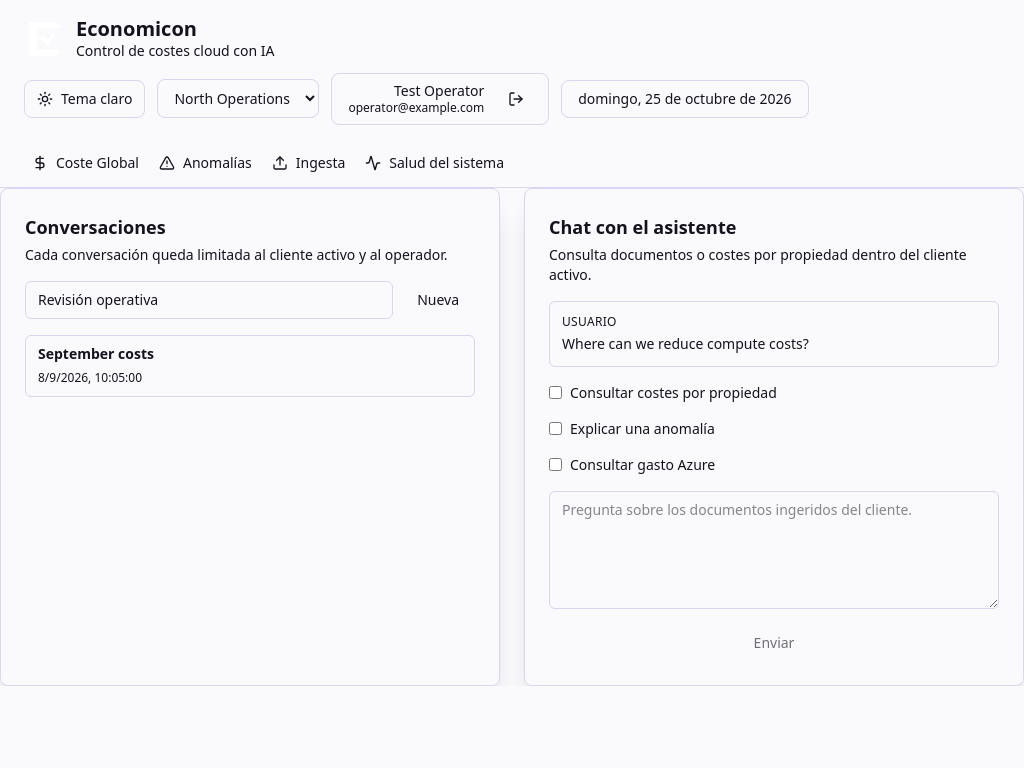
Test: tenant changes isolate page state › keeps new-tenant conversation drafts independent of late mutation success
Expected: the text "Where can we reduce compute costs?" is shown, x1=562 y1=334 x2=809 y2=352
Replace the text in the field with placeholder "Título de la nueva conversación" with "North only" at (209, 300), box x1=25 y1=280 x2=393 y2=318
Click the button "Nueva".
click(438, 300)  # box x1=401 y1=280 x2=475 y2=318
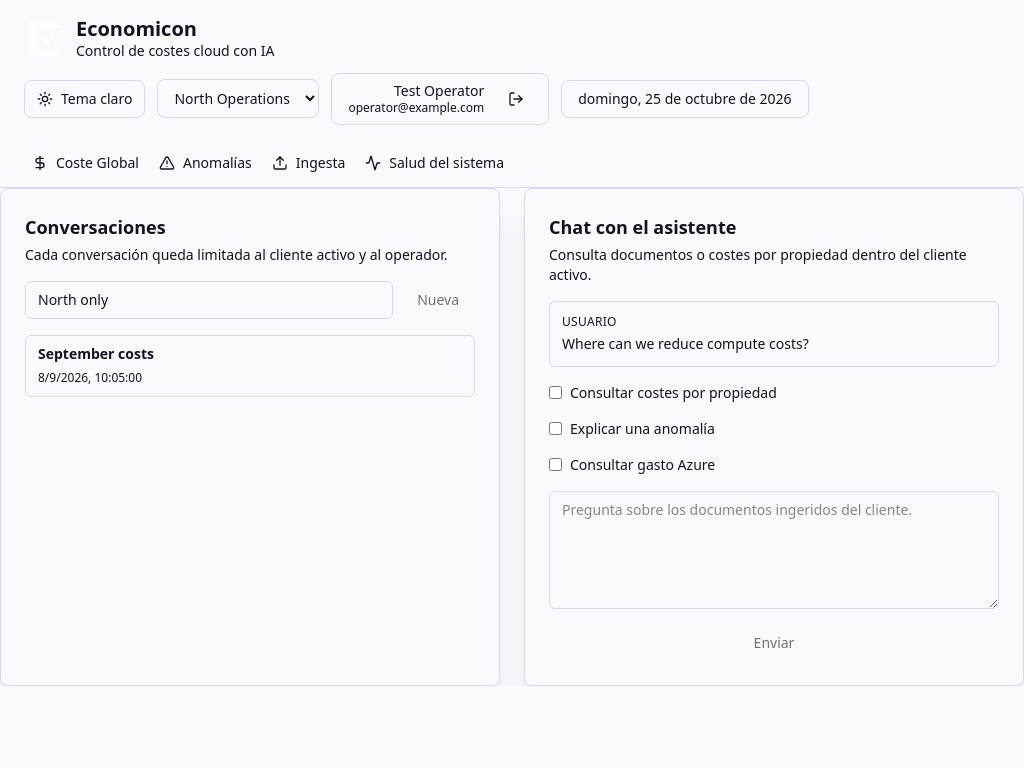
Type "North pending message" into the text box with placeholder "Pregunta sobre los documentos ingeridos del cliente.".
click(774, 550); type("North pending message")  # box x1=549 y1=490 x2=999 y2=608
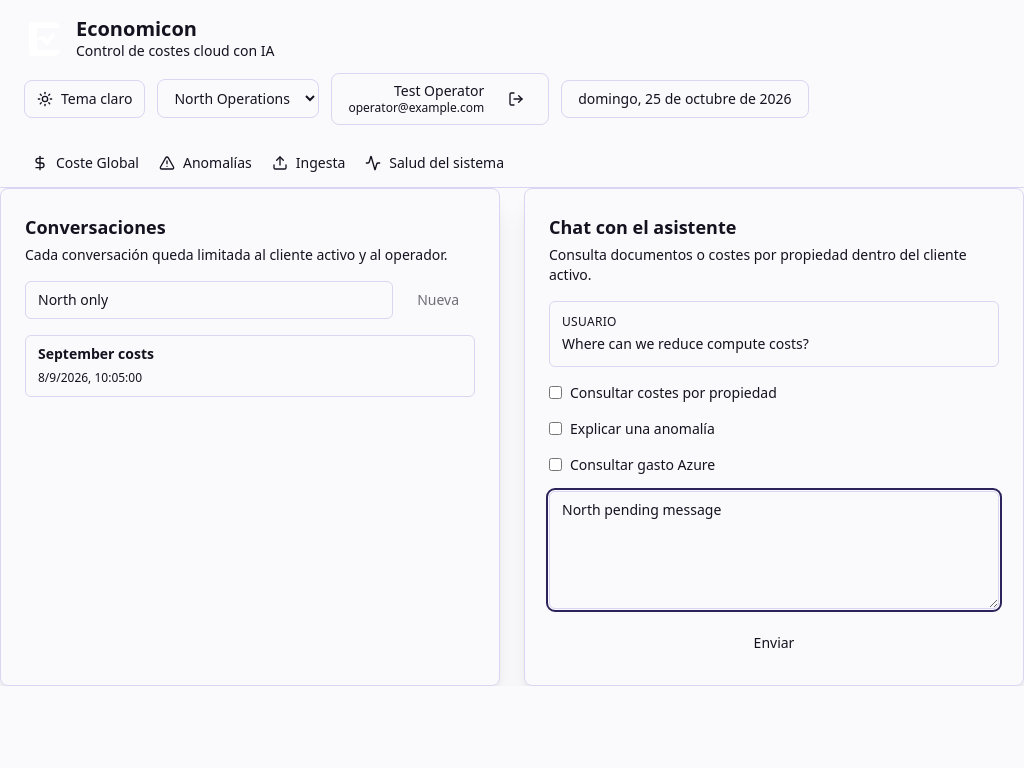
Click the button "Enviar".
click(774, 642)  # box x1=549 y1=624 x2=999 y2=660
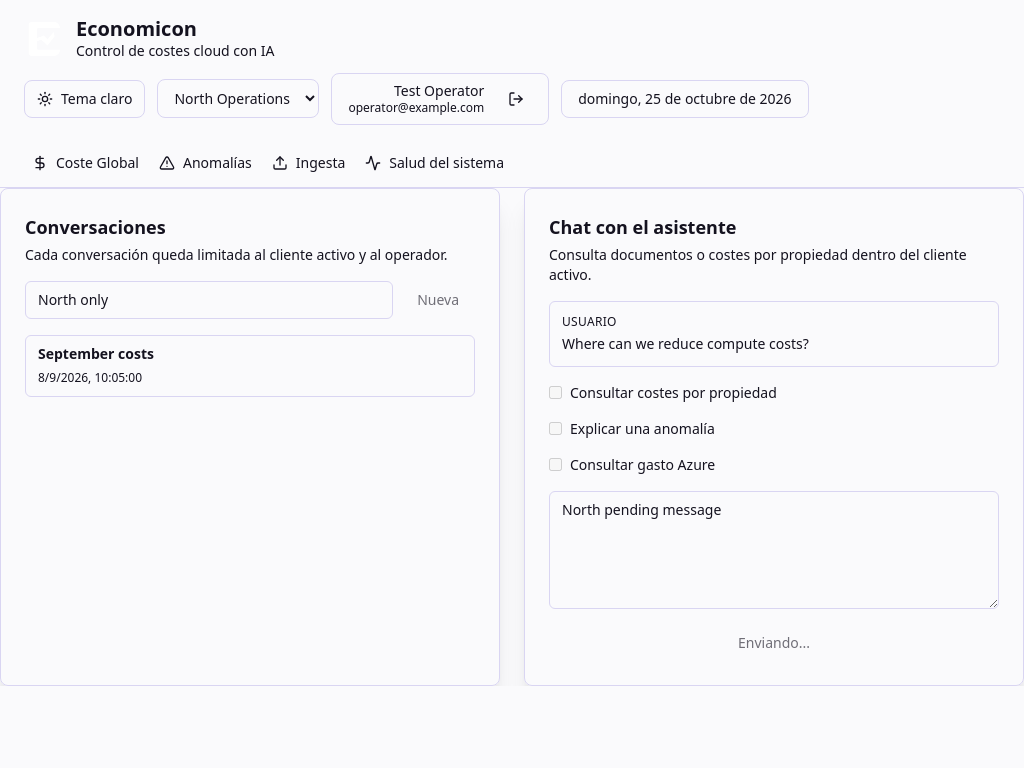
Now the button "Nueva" is disabled, box x1=401 y1=280 x2=475 y2=318
Now the button "Enviando..." is disabled, box x1=549 y1=624 x2=999 y2=660
Select "South Operations" in the dropdown named "Ámbito de cliente" at (238, 99), box x1=158 y1=79 x2=320 y2=118
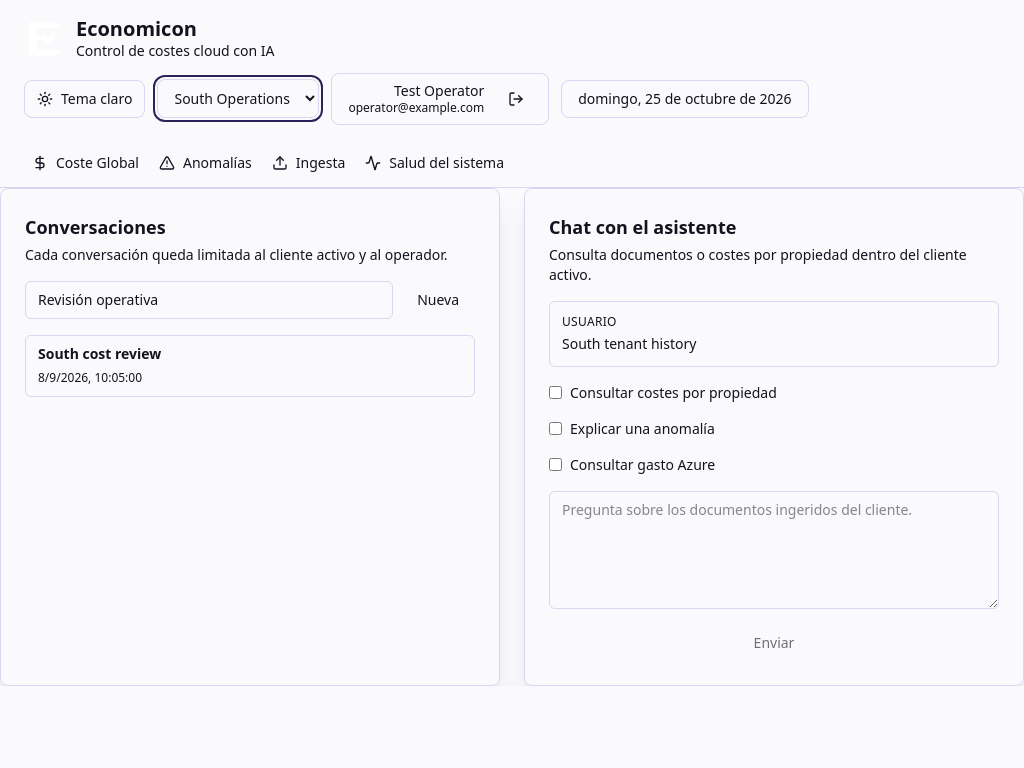
Now the text "South tenant history" is shown, box x1=562 y1=334 x2=696 y2=352
Now the button "Nueva" is enabled, box x1=401 y1=280 x2=475 y2=318
Now the text box with placeholder "Pregunta sobre los documentos ingeridos del cliente." is empty, box x1=549 y1=490 x2=999 y2=608
Replace the text in the field with placeholder "Título de la nueva conversación" with "South new title" at (209, 300), box x1=25 y1=280 x2=393 y2=318
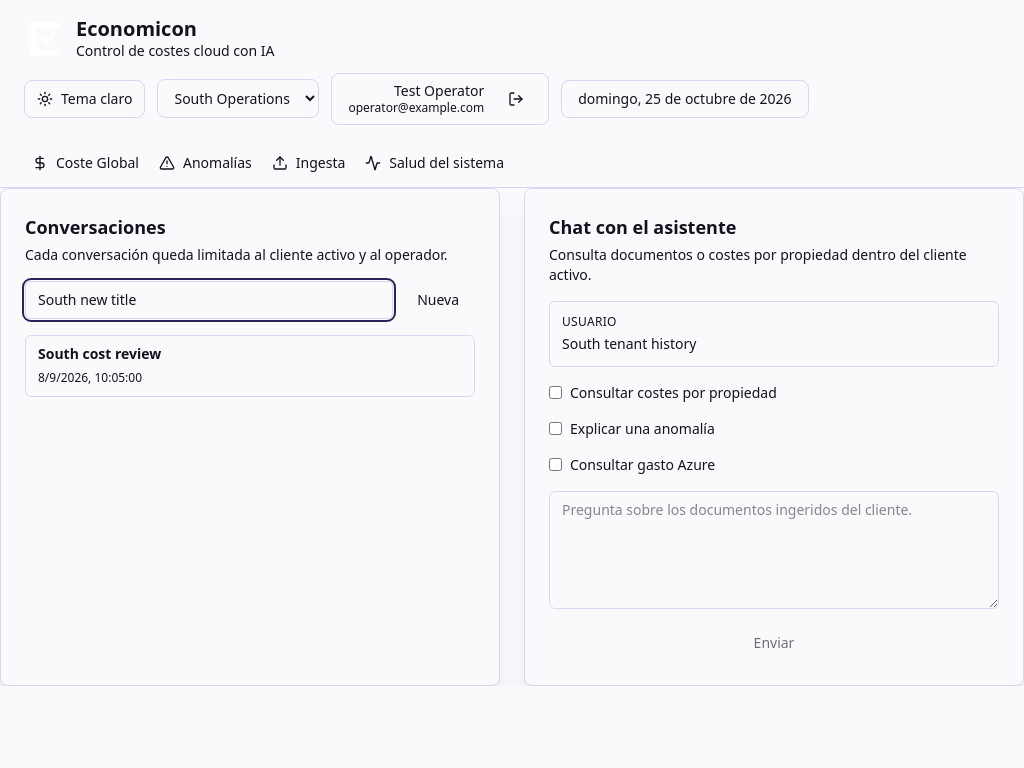
Type "South new message" into the text box with placeholder "Pregunta sobre los documentos ingeridos del cliente.".
click(774, 550); type("South new message")  # box x1=549 y1=490 x2=999 y2=608
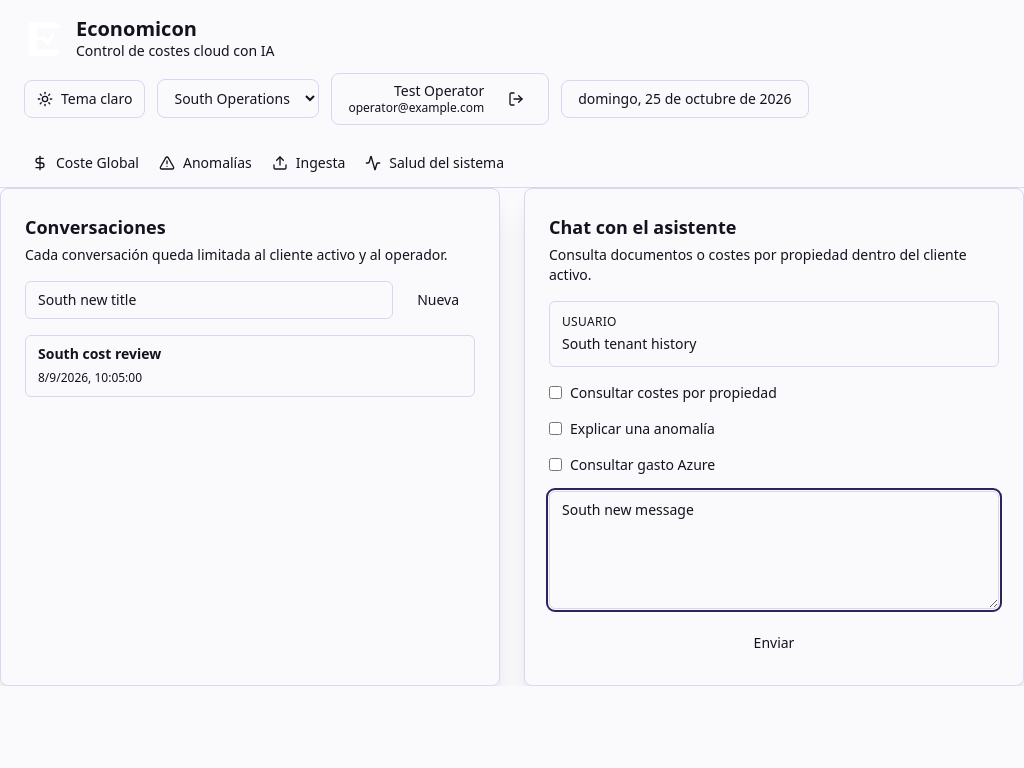
Now the text "South tenant history" is shown, box x1=562 y1=334 x2=696 y2=352
Now the button "Enviar" is enabled, box x1=549 y1=624 x2=999 y2=660
